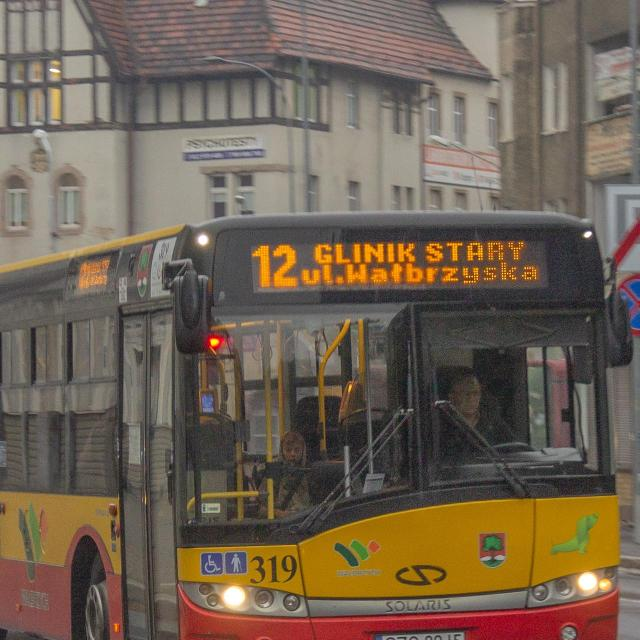Bus: (0, 212, 632, 640)
